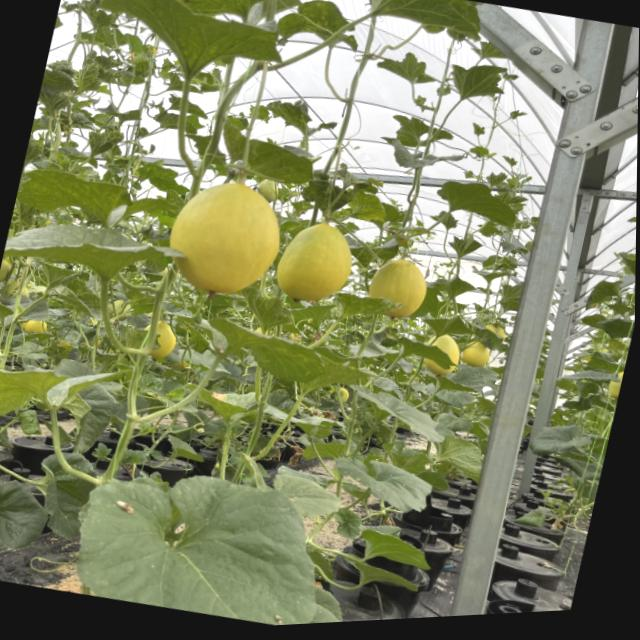SLCV: (329, 284, 406, 333), (82, 127, 124, 163), (70, 0, 115, 33), (74, 58, 106, 97), (22, 125, 48, 171)
alternaria leaf blight: (177, 376, 272, 433)
downy mildew: (0, 339, 128, 446)
healthy: (67, 444, 341, 636)
powdery mildew: (325, 447, 437, 520), (339, 378, 454, 449), (24, 444, 103, 547), (0, 473, 53, 555)
